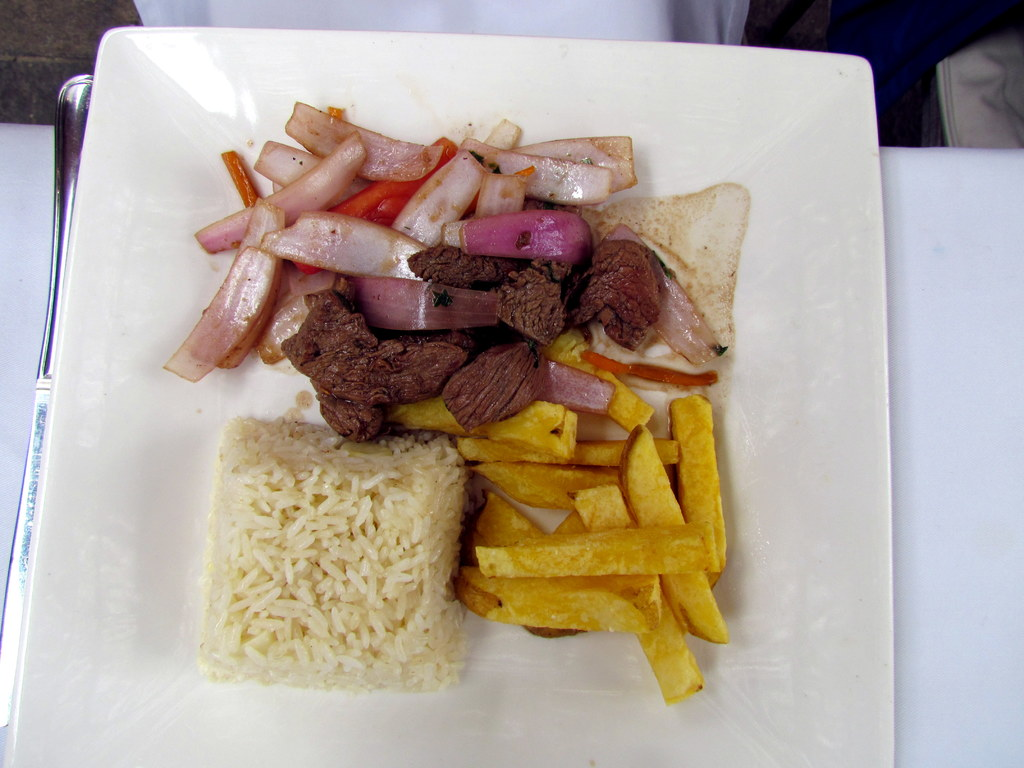French fries: (432, 410, 687, 653)
